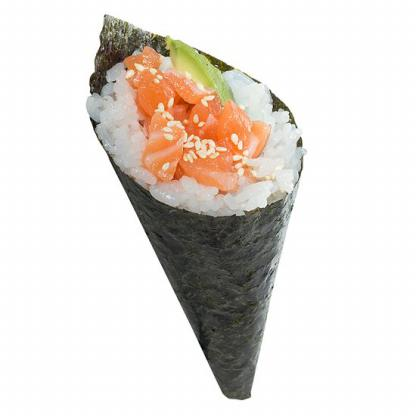sake_hand_roll: (78, 11, 309, 415)
